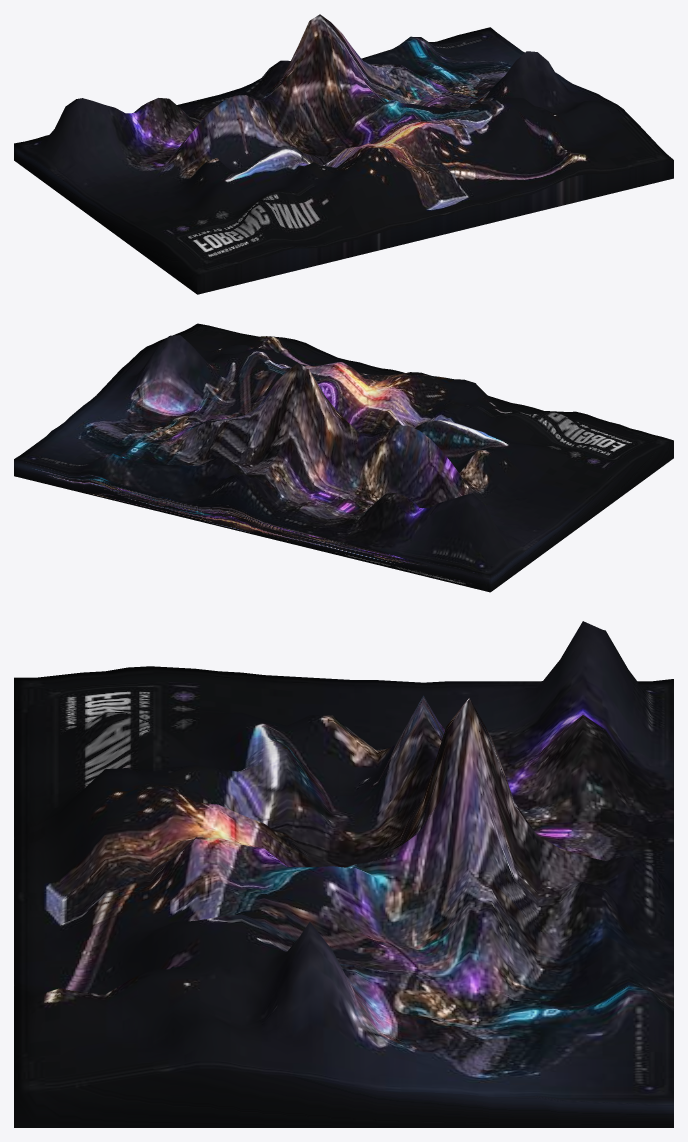
The model's file is WORKSTATION_02_Forging_Anvil.glb.
3 views of the same model, one above another, from view 1: azimuth 30°, elevation 25°; view 2: azimuth 150°, elevation 25°; view 3: azimuth 270°, elevation 25° (orthographic). The views are drawn at different scales.
Visible parts, largest first — view 1: WORKSTATION_02_Forging_Anvil; view 2: WORKSTATION_02_Forging_Anvil; view 3: WORKSTATION_02_Forging_Anvil.
Boxes of the visible parts, x1=… form: WORKSTATION_02_Forging_Anvil: x1=14, y1=14, x2=673, y2=294; WORKSTATION_02_Forging_Anvil: x1=14, y1=323, x2=673, y2=592; WORKSTATION_02_Forging_Anvil: x1=14, y1=621, x2=673, y2=1127.
Size of the model in its own units: 2 by 0.51 by 1.33.
Materials: 1 (1 with a texture image).
